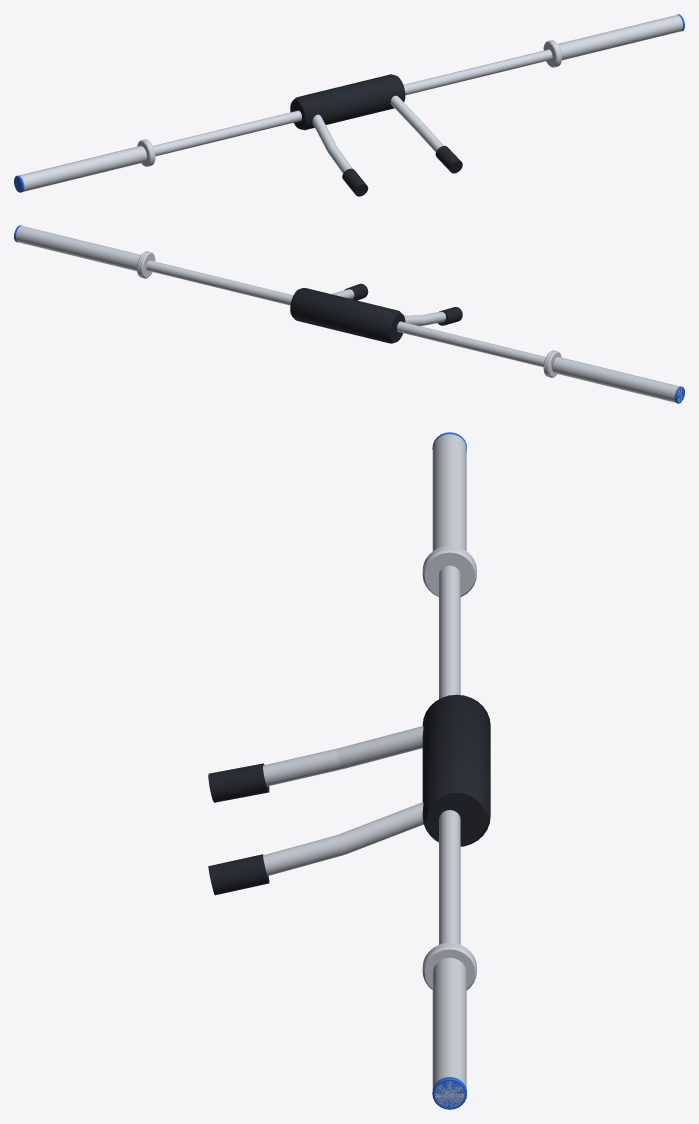
File: prop-safety-squat-bar.glb
3 views of the same model, one above another, from view 1: azimuth 30°, elevation 25°; view 2: azimuth 150°, elevation 25°; view 3: azimuth 270°, elevation 25° (orthographic). The views are drawn at different scales.
Visible parts, largest first — view 1: frame.chrome, frame.pad; view 2: frame.chrome, frame.pad; view 3: frame.chrome, frame.pad, frame.accent.
Part boxes in pixels (x1,y1,x2,y2): frame.chrome: [15, 15, 682, 191]; frame.pad: [290, 74, 462, 196]; frame.chrome: [16, 226, 683, 402]; frame.pad: [290, 283, 462, 343]; frame.chrome: [263, 434, 476, 1107]; frame.pad: [208, 694, 490, 895]; frame.accent: [432, 432, 466, 1109].
Size of the model in its own units: 2.25 by 0.1743 by 0.4149.
